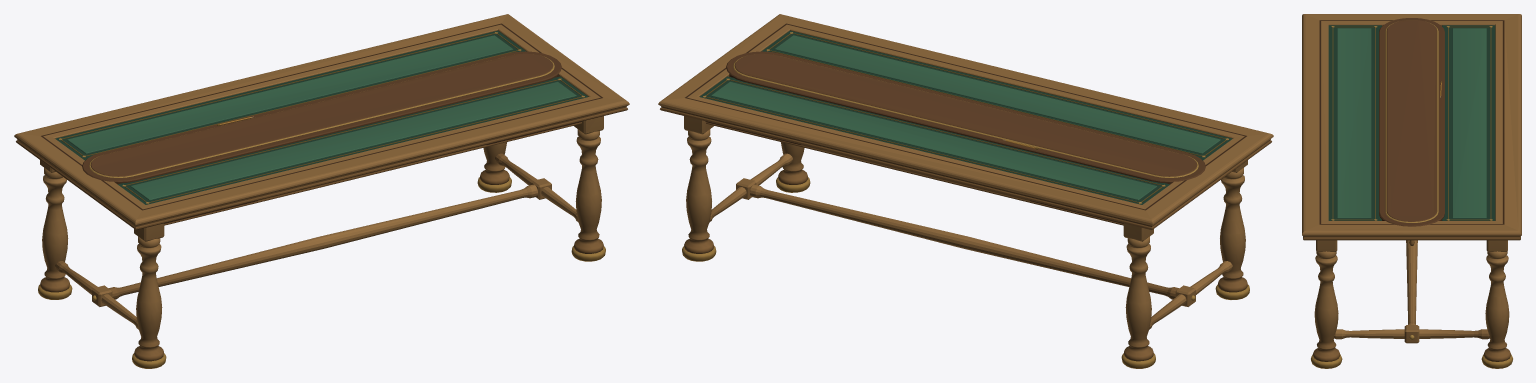
Rendered from reading-table.glb.
3 views of the same model, side by side, from view 1: azimuth 30°, elevation 25°; view 2: azimuth 150°, elevation 25°; view 3: azimuth 270°, elevation 25° (orthographic). The views are drawn at different scales.
Visible parts, largest first — view 1: reading_table; view 2: reading_table; view 3: reading_table.
Boxes of the visible parts, x1,y1,x2,y2 form: reading_table: (14,14,629,368); reading_table: (658,14,1273,368); reading_table: (1302,14,1521,368).
Bounding box in the file's own units: 2.43 × 0.7499 × 1.03.
